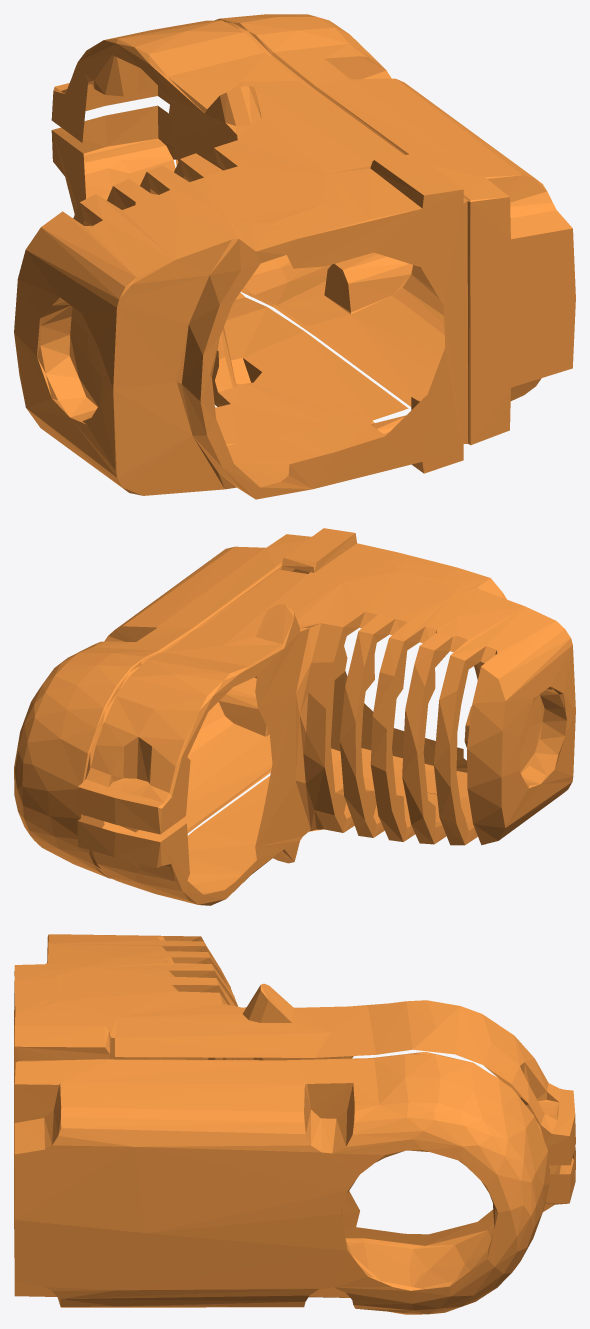
The model's file is youbot_test_export_urdf_ME_Arm4_me_vis_1.dae.
3 views of the same model, one above another, from view 1: azimuth 30°, elevation 25°; view 2: azimuth 150°, elevation 25°; view 3: azimuth 270°, elevation 25° (orthographic). The views are drawn at different scales.
Parts seen in each view (by area): view 1: Node_0000015E15F55200; view 2: Node_0000015E15F55200; view 3: Node_0000015E15F55200.
Part boxes in pixels (left/top/right/bottom): Node_0000015E15F55200: left=14, top=14, right=575, bottom=499; Node_0000015E15F55200: left=14, top=528, right=575, bottom=905; Node_0000015E15F55200: left=14, top=934, right=575, bottom=1314.
Bounding box in the file's own units: 0.0986 × 0.0668 × 0.1168.
